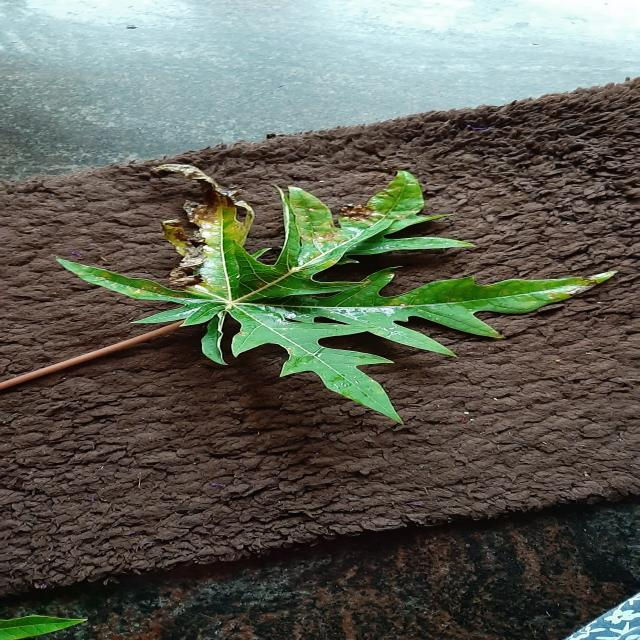seedling blight: (57, 164, 615, 421)
